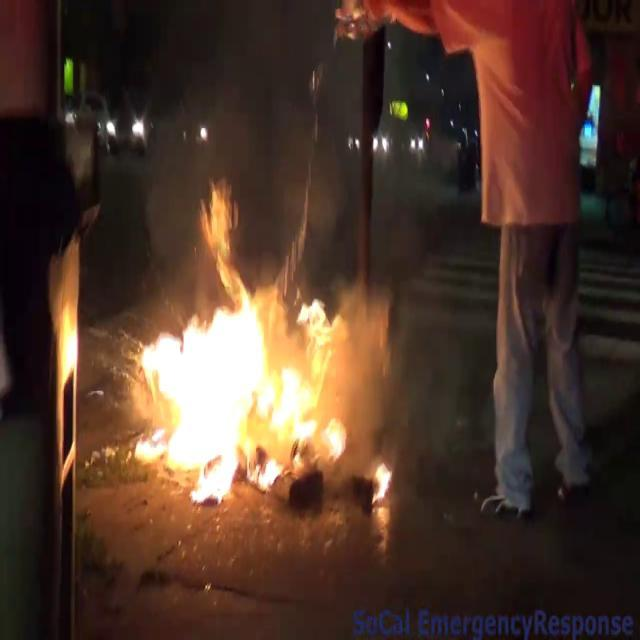Fire: (129, 268, 371, 492)
Smoke: (138, 0, 367, 286)
